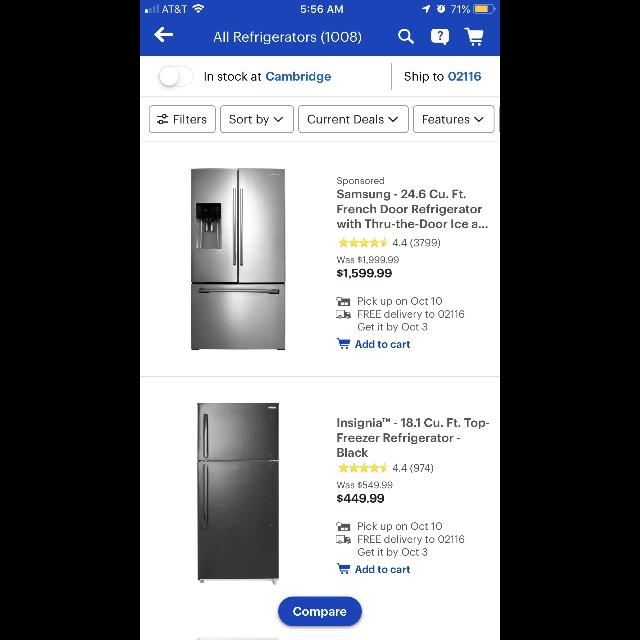icon: (338, 463, 389, 473), (338, 238, 389, 248), (464, 28, 484, 46), (154, 27, 173, 43), (432, 28, 448, 46), (398, 30, 414, 44), (336, 564, 350, 574), (336, 338, 350, 348), (388, 116, 398, 122), (274, 116, 282, 122), (474, 118, 484, 122)
image: (191, 168, 285, 350), (197, 402, 279, 584), (336, 534, 350, 544), (336, 522, 350, 532), (336, 310, 350, 318), (336, 297, 350, 305)
switch: (160, 65, 194, 87)
text: (337, 418, 489, 458), (337, 190, 488, 228), (358, 296, 464, 332), (358, 522, 464, 558), (213, 32, 361, 44), (205, 71, 331, 83), (405, 72, 481, 84), (337, 268, 391, 278), (392, 238, 440, 248), (338, 256, 398, 264), (354, 565, 410, 573), (356, 340, 410, 348), (338, 493, 384, 502), (392, 464, 433, 474), (338, 178, 384, 186), (338, 482, 392, 488)
textbutton: (299, 105, 409, 133), (278, 596, 362, 626), (414, 105, 494, 133), (220, 105, 294, 133), (150, 105, 217, 133)
uppertaskbar: (140, 0, 500, 14)
